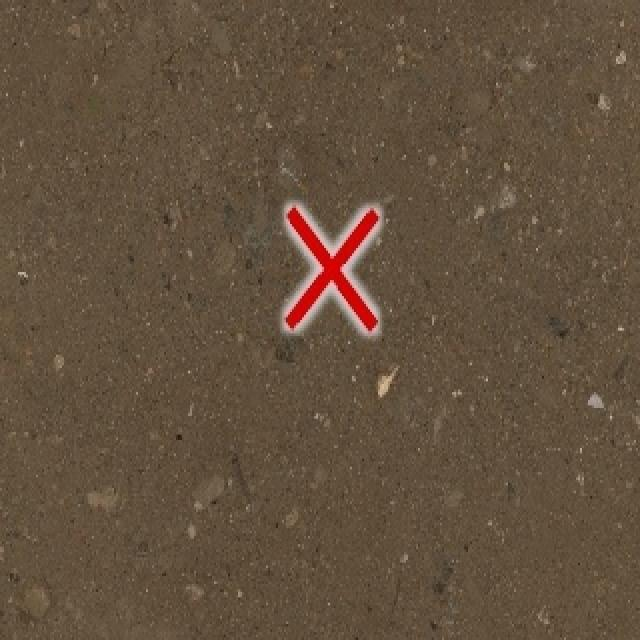x_marker: (285, 207, 377, 329)
